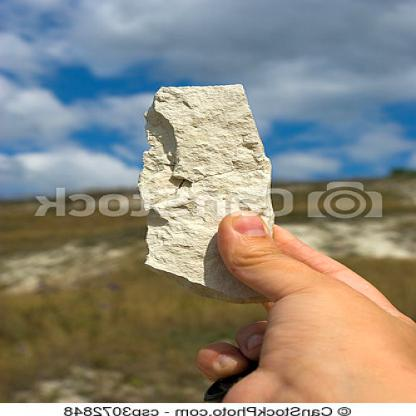Sedimentary_Chalk: (119, 96, 231, 234)
